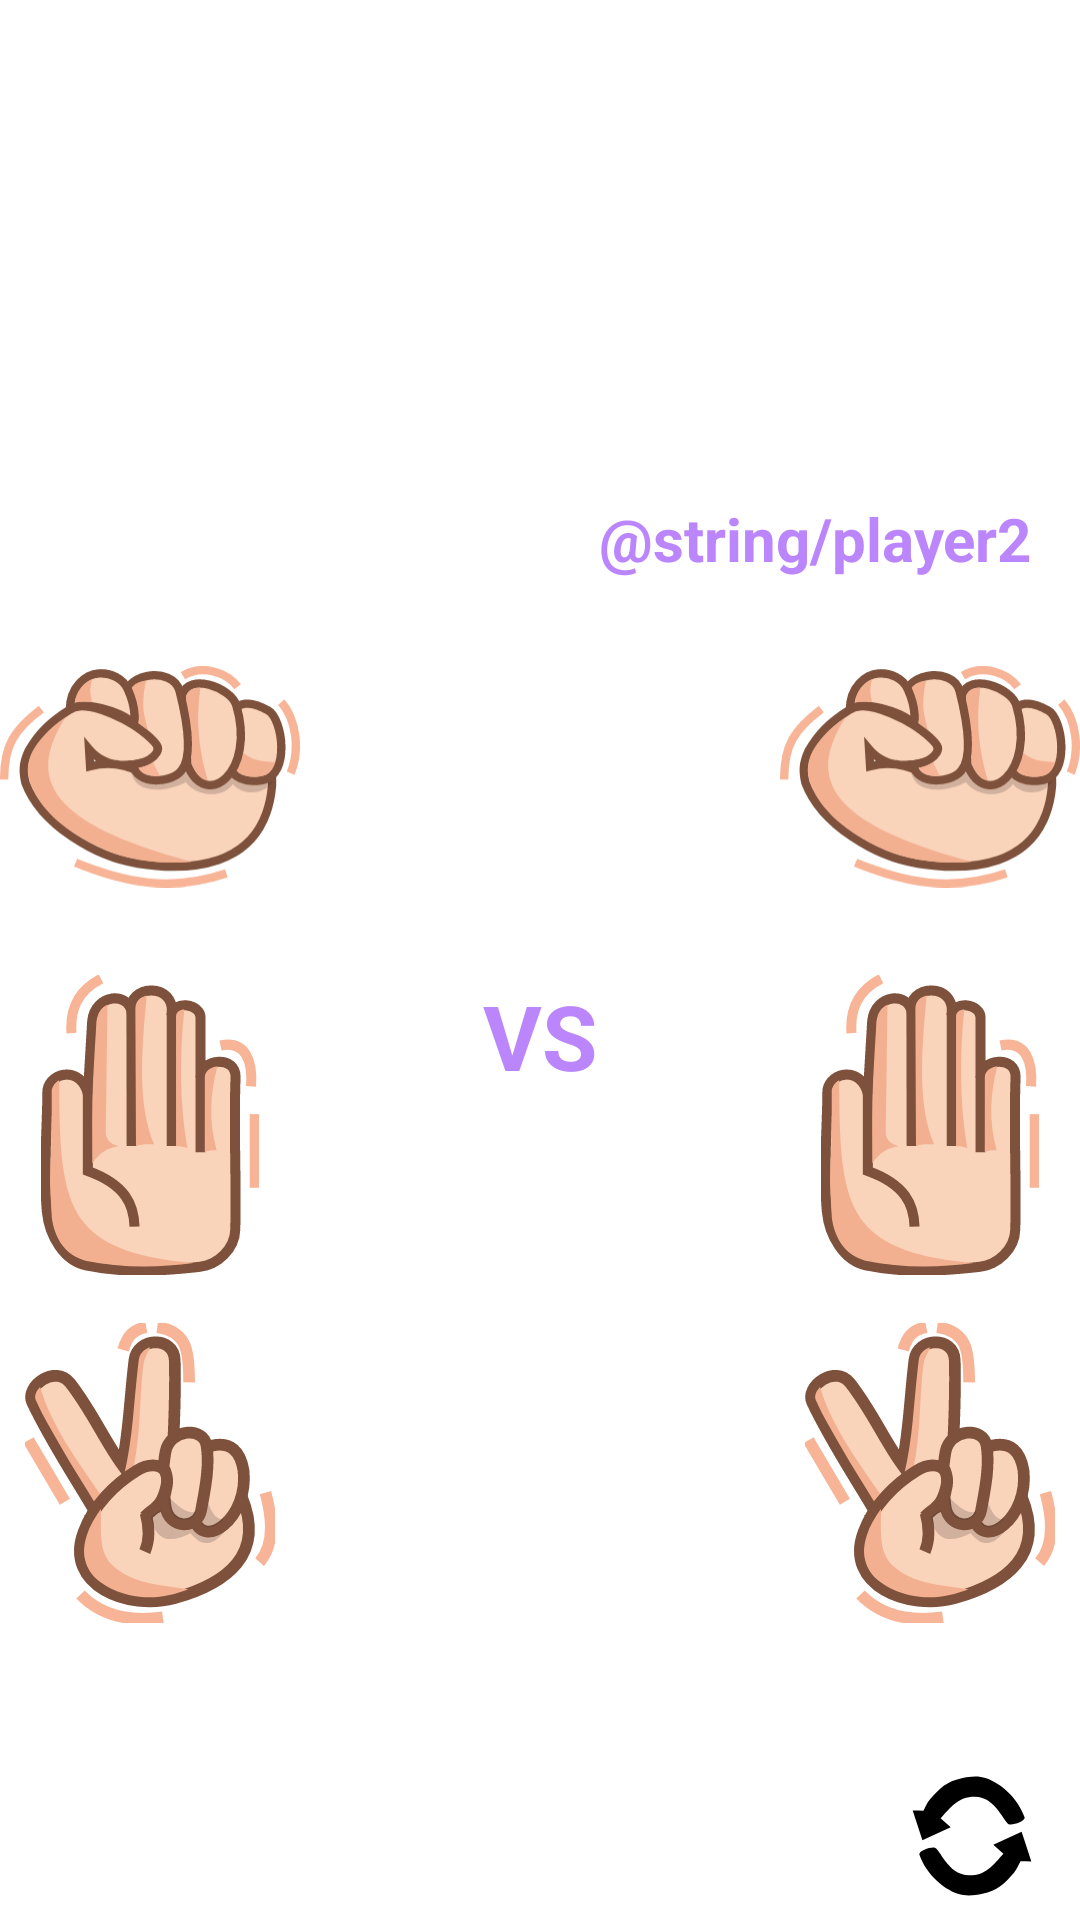

Where to tap for icons on this 1080px x 1920px app screen, as (x=x, y=y):
Paper: (x=150, y=1125), (x=930, y=1125)
Retry: (x=972, y=1836)
Rock: (x=150, y=777), (x=930, y=777)
Scissor: (x=150, y=1473), (x=930, y=1473)
